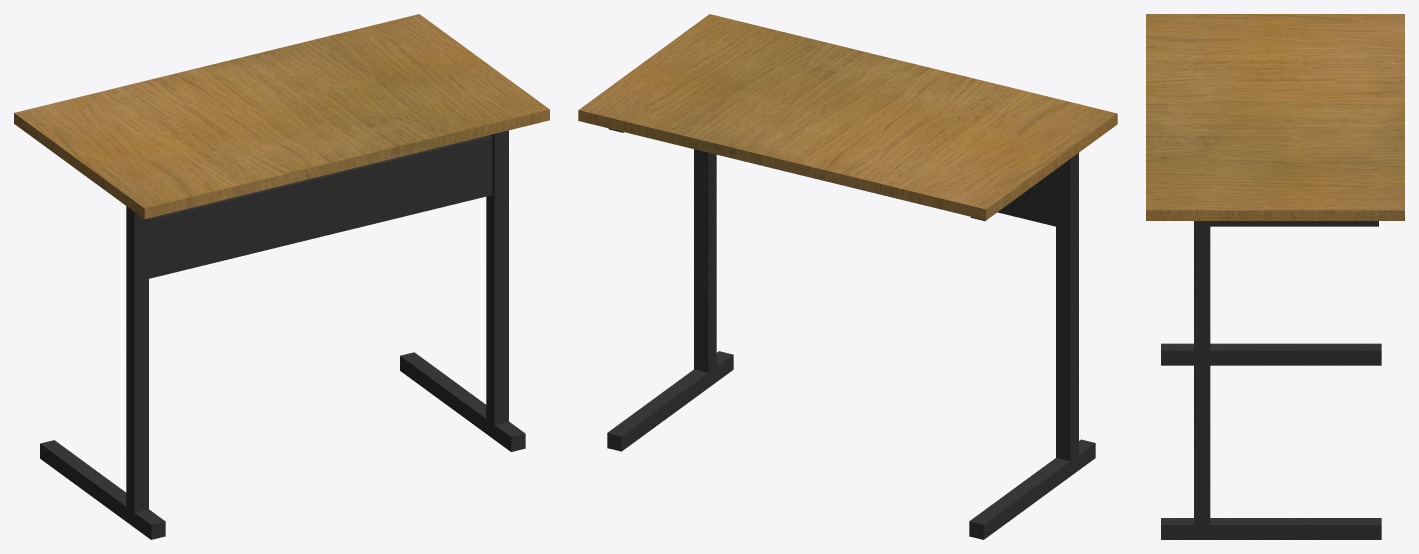
The model's file is table6.FBX.
3 renders of one model, left to right at view 1: azimuth 30°, elevation 25°; view 2: azimuth 150°, elevation 25°; view 3: azimuth 270°, elevation 25°, orthographic.
Visible parts, largest first — view 1: table6; view 2: table6; view 3: table6.
Boxes of the visible parts, box(x1,y1,x2,y2) form: table6: box(14, 14, 549, 539); table6: box(578, 14, 1117, 539); table6: box(1146, 14, 1404, 539).
Bounding box in the file's own units: 11.27 × 9.05 × 6.28.
